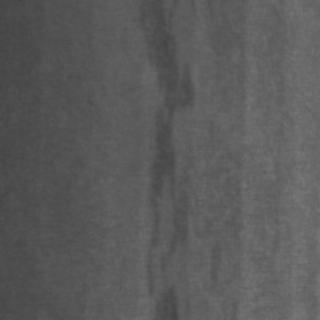inclusion: (128, 0, 196, 314)
